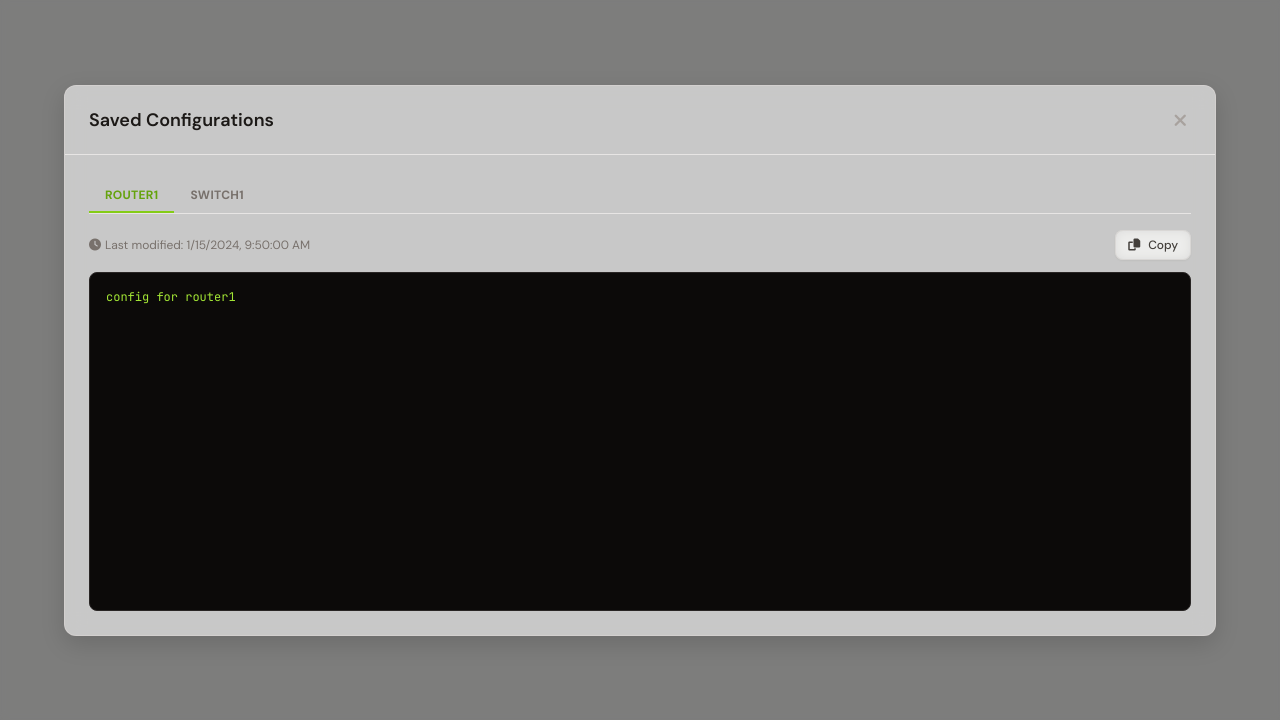
Scenario: ConfigViewerModal › Multiple configs with tabs › switches config when tab is clicked
The image size is (1280, 720).
Click the button "switch1": x=217, y=196 [174, 178, 260, 212]
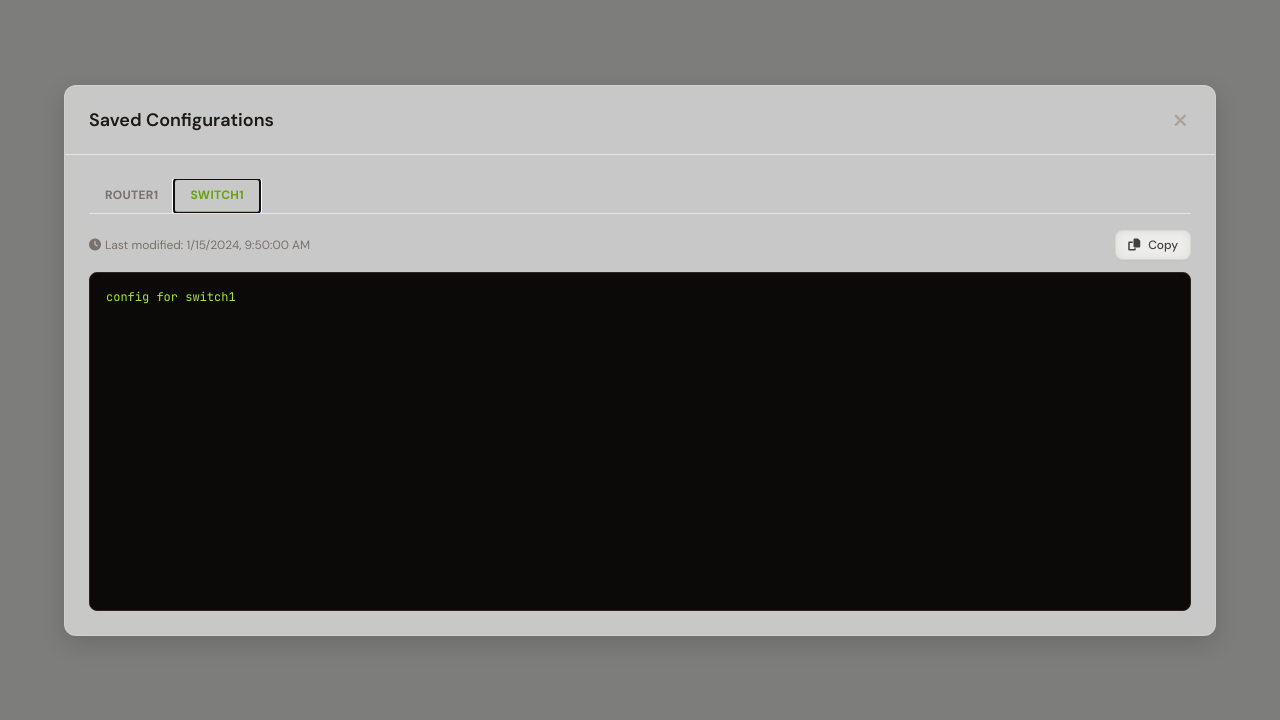
Expected: the text "config for switch1" is shown, [106, 288, 236, 304]
